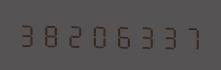eight: (40, 18, 62, 49)
seven: (178, 21, 200, 51)
six: (109, 19, 131, 50)
three: (155, 20, 177, 51), (17, 18, 39, 48), (132, 20, 154, 50)
two: (63, 19, 85, 49)
zero: (86, 19, 108, 49)
